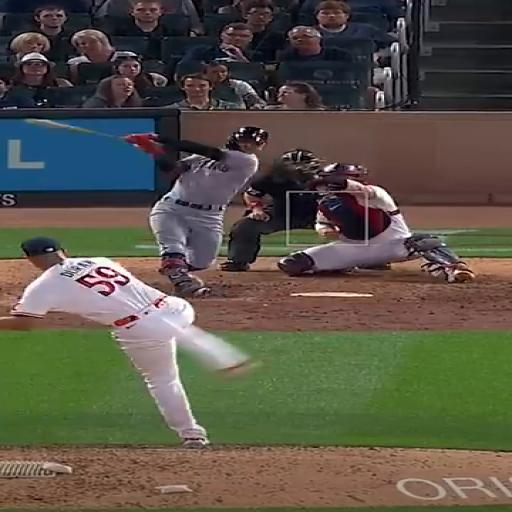bat: (25, 119, 124, 141)
